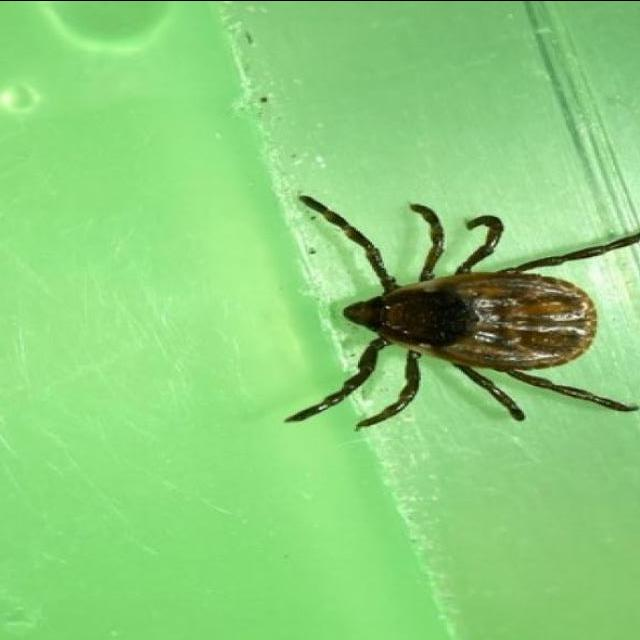Rhipicephalus Sanguineus-F: (287, 195, 640, 430)
